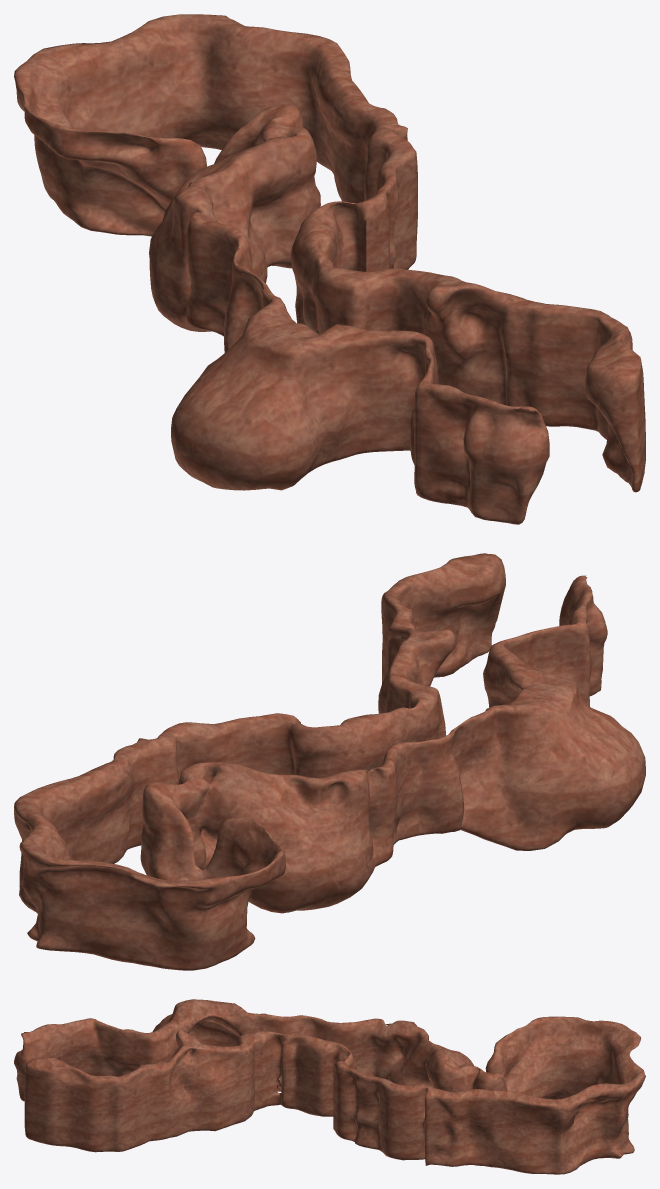
The model's file is Canyon TEXT.glb.
3 renders of one model, top to bottom at view 1: azimuth 30°, elevation 25°; view 2: azimuth 150°, elevation 25°; view 3: azimuth 270°, elevation 25°, orthographic. The views are drawn at different scales.
Visible parts, largest first — view 1: Retopo_Plane.001; view 2: Retopo_Plane.001; view 3: Retopo_Plane.001.
Boxes of the visible parts, x1,y1,x2,y2 form: Retopo_Plane.001: [14, 14, 645, 524]; Retopo_Plane.001: [14, 553, 645, 970]; Retopo_Plane.001: [14, 999, 645, 1174].
Size of the model in its own units: 73.17 by 27.27 by 146.
1 material, 1 textured.
